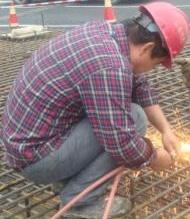boots: (58, 195, 131, 219), (0, 26, 11, 38)
gloves: (1, 0, 1, 0)
hard-hat: (137, 1, 189, 69)
ppe-suit: (0, 0, 23, 41)
